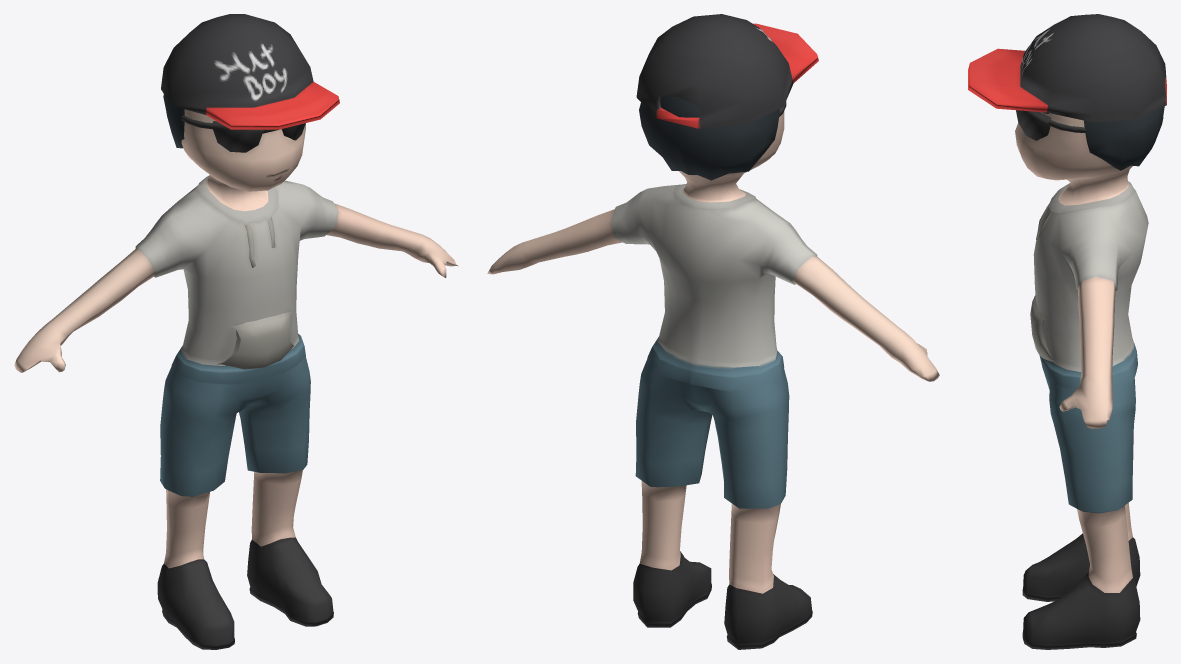
The model's file is Sips.fbx.
3 renders of one model, left to right at view 1: azimuth 30°, elevation 25°; view 2: azimuth 150°, elevation 25°; view 3: azimuth 270°, elevation 25°, orthographic.
Visible parts, largest first — view 1: polySurface112; view 2: polySurface112; view 3: polySurface112.
Boxes of the visible parts, x1,y1,x2,y2 form: polySurface112: (14,14,458,649); polySurface112: (487,14,939,649); polySurface112: (968,14,1166,649).
Bounding box in the file's own units: 108 × 139 × 42.1.
